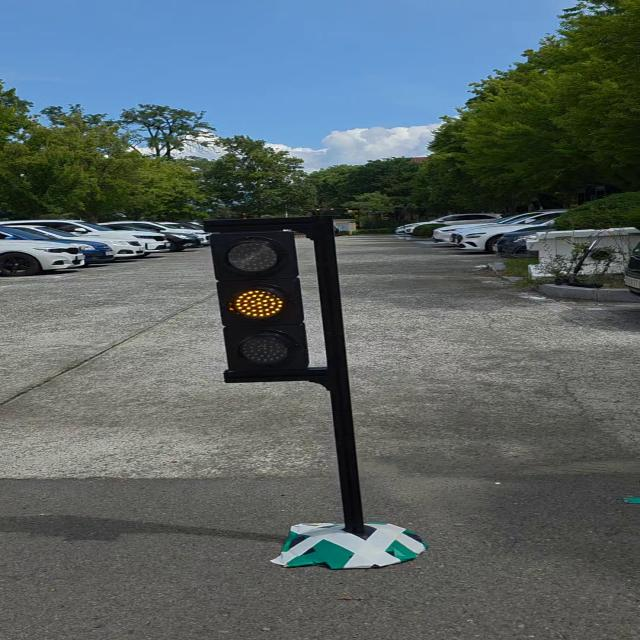yellow: (205, 221, 322, 383)
